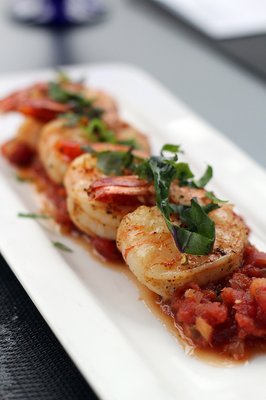curry: (1, 1, 265, 361)
